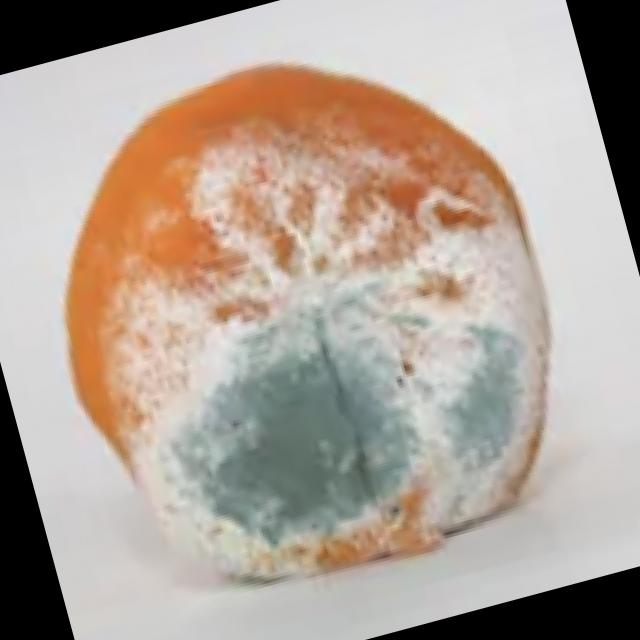rotten-orange: (2, 1, 604, 626)
